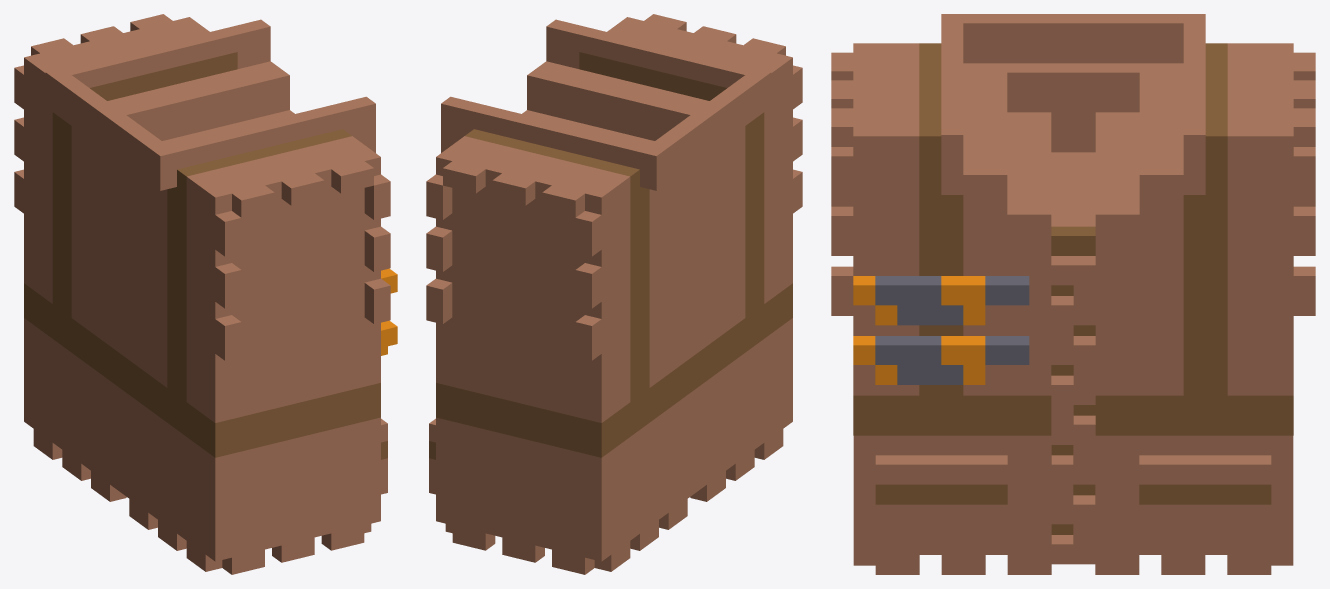
Rendered from av_top_vest.glb.
3 views of the same model, side by side, from view 1: azimuth 30°, elevation 25°; view 2: azimuth 150°, elevation 25°; view 3: azimuth 270°, elevation 25° (orthographic). The views are drawn at different scales.
Visible parts, largest first — view 1: model-1; view 2: model-1; view 3: model-1.
Boxes of the visible parts, bbox=[...] form: model-1: bbox=[14, 14, 397, 574]; model-1: bbox=[426, 14, 802, 574]; model-1: bbox=[831, 14, 1315, 574].
Size of the model in its own units: 0.1301 by 0.2301 by 0.2202.
Materials: 1 (1 with a texture image).
